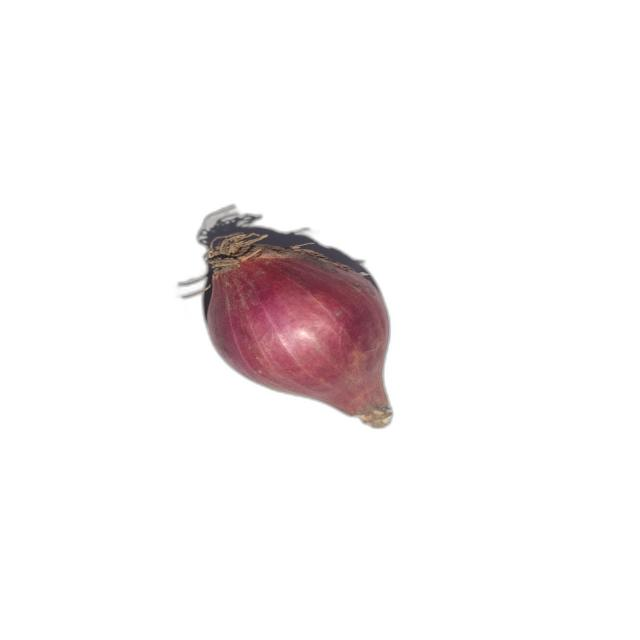onion: (182, 232, 394, 429)
